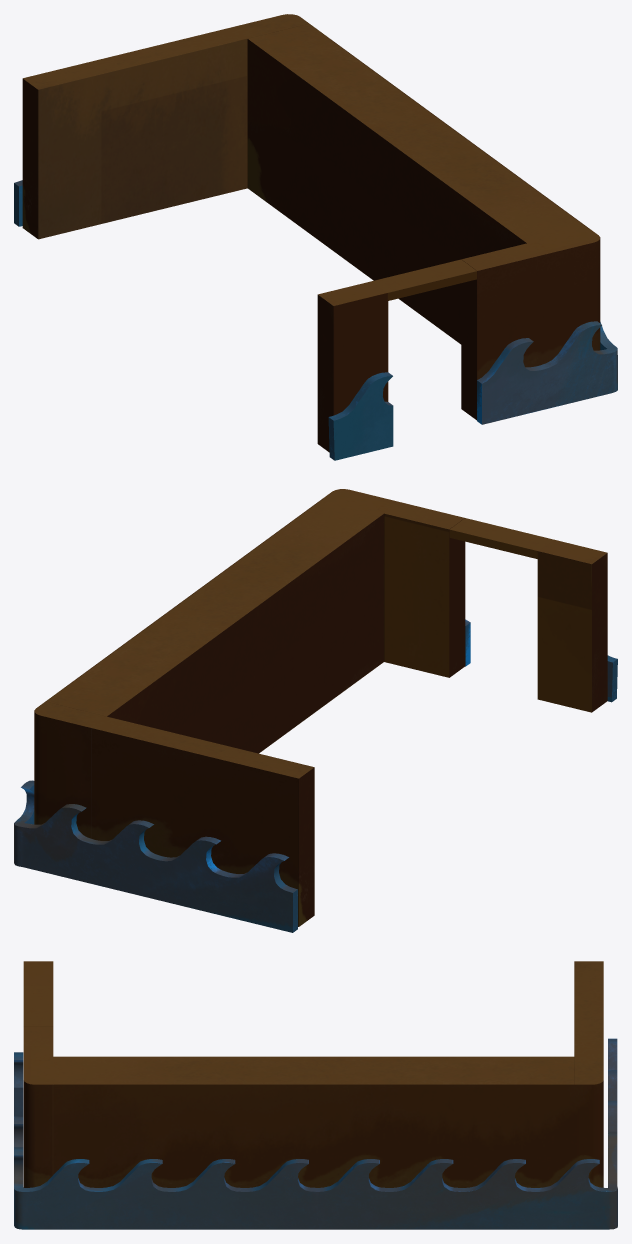
File: BARRAMAL.fbx
3 renders of one model, top to bottom at view 1: azimuth 30°, elevation 25°; view 2: azimuth 150°, elevation 25°; view 3: azimuth 270°, elevation 25°, orthographic. The views are drawn at different scales.
Visible parts, largest first — view 1: Frame, Plane.003, Dore; view 2: Frame, Plane.003, Dore; view 3: Frame, Plane.003, Dore.
Boxes of the visible parts, x1,y1,x2,y2 form: Frame: (22, 14, 600, 452); Plane.003: (14, 180, 617, 460); Dore: (372, 259, 476, 300); Frame: (34, 489, 607, 926); Plane.003: (14, 619, 617, 932); Dore: (449, 518, 553, 558); Frame: (23, 961, 603, 1187); Plane.003: (14, 1038, 617, 1229); Dore: (23, 986, 53, 1026).
Size of the model in its own units: 211 by 105 by 411.
